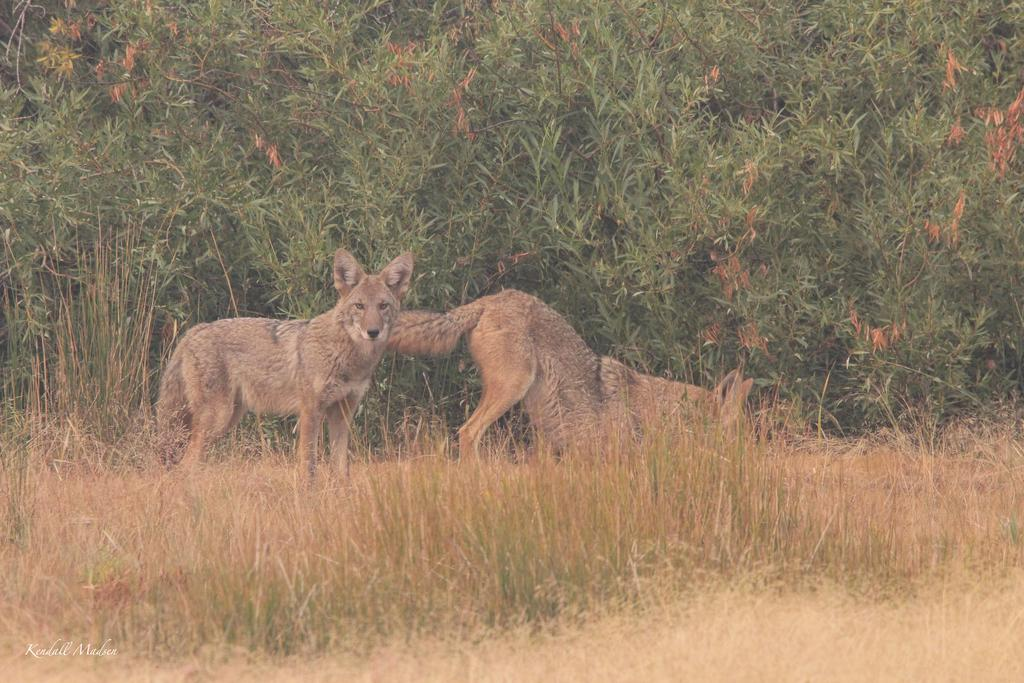Coyote: (388, 286, 756, 469), (162, 242, 417, 479)
